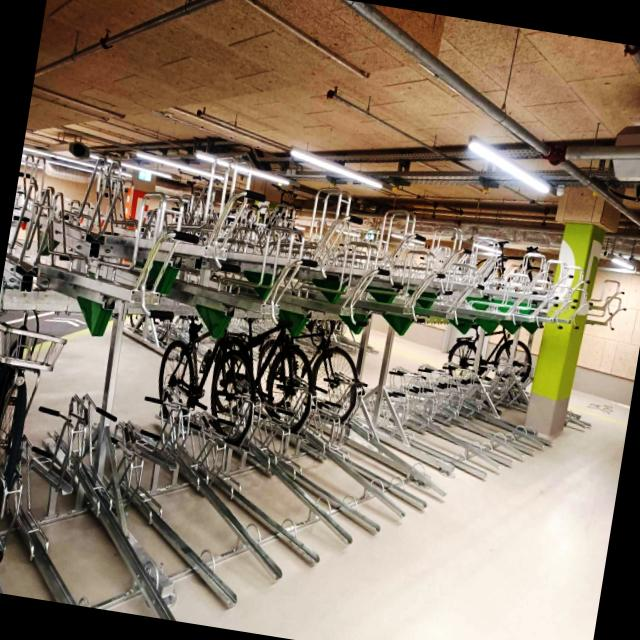bike: (149, 296, 271, 448), (204, 309, 324, 435), (250, 306, 368, 424), (444, 312, 538, 393)
